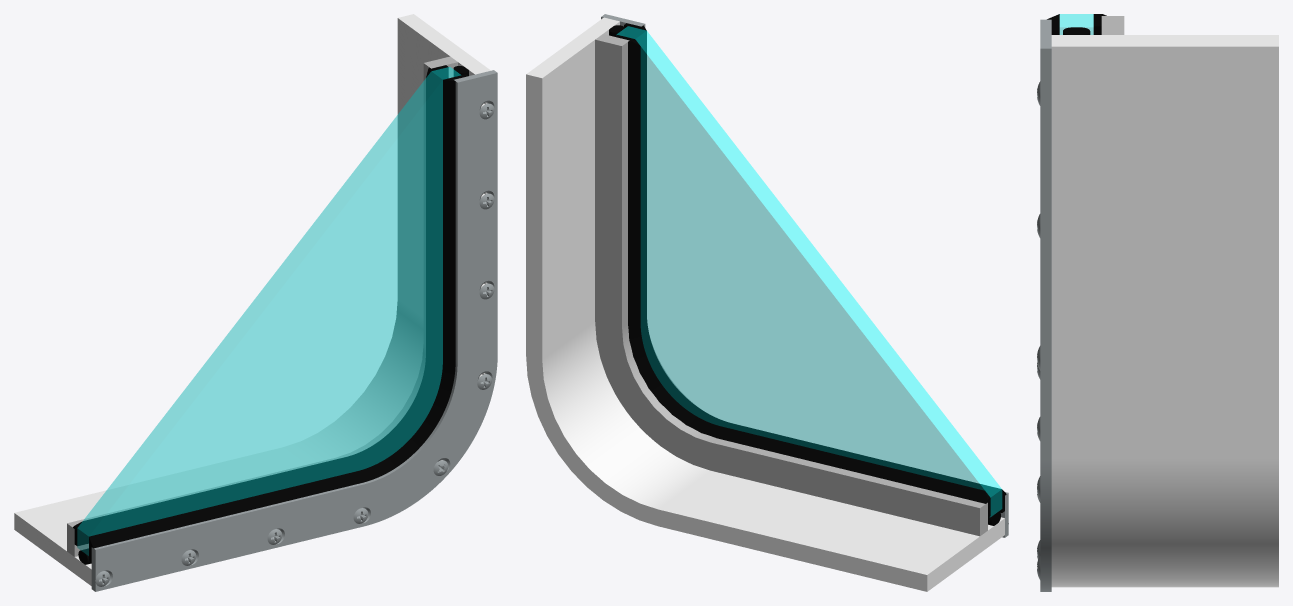
Rendered from clear-monolithic-marine-window.glb.
3 renders of one model, left to right at view 1: azimuth 30°, elevation 25°; view 2: azimuth 150°, elevation 25°; view 3: azimuth 270°, elevation 25°, orthographic. The views are drawn at different scales.
Visible parts, largest first — view 1: P016273-1, P016274-1, P016270-1_7858a6, P016272-1, P016271-1; view 2: P016273-1, P016270-1_7858a6, P016271-1, P016272-1; view 3: P016270-1_7858a6, P016274-1, P016273-1, P016271-1, P016272-1.
Part boxes in pixels (x1,y1,x2,y2): P016273-1: (77,67,460,555); P016274-1: (91,70,497,591); P016270-1_7858a6: (14,14,490,585); P016272-1: (73,65,467,561); P016271-1: (67,56,457,556); P016273-1: (616,26,1002,517); P016270-1_7858a6: (526,17,1004,591); P016271-1: (595,34,987,536); P016272-1: (615,23,1006,517); P016270-1_7858a6: (1051,35,1278,587); P016274-1: (1040,19,1051,591); P016273-1: (1059,14,1093,34); P016271-1: (1101,16,1124,34); P016272-1: (1047,14,1106,34).
Bounding box in the file's own units: 0.3 × 0.3 × 0.1064.
